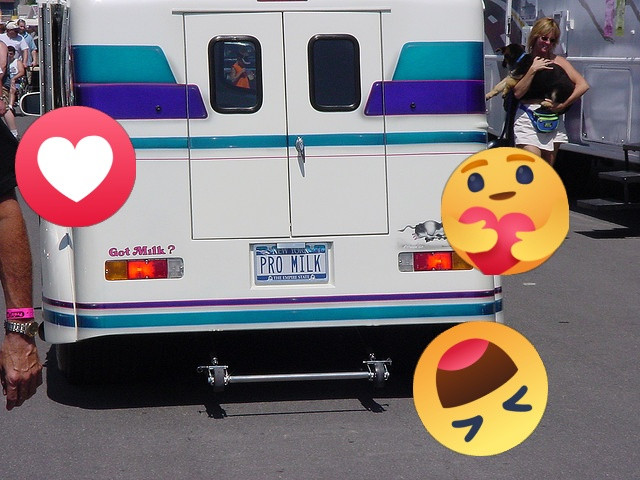care: (441, 147, 569, 275)
haha: (413, 321, 548, 456)
love: (15, 106, 136, 227)
